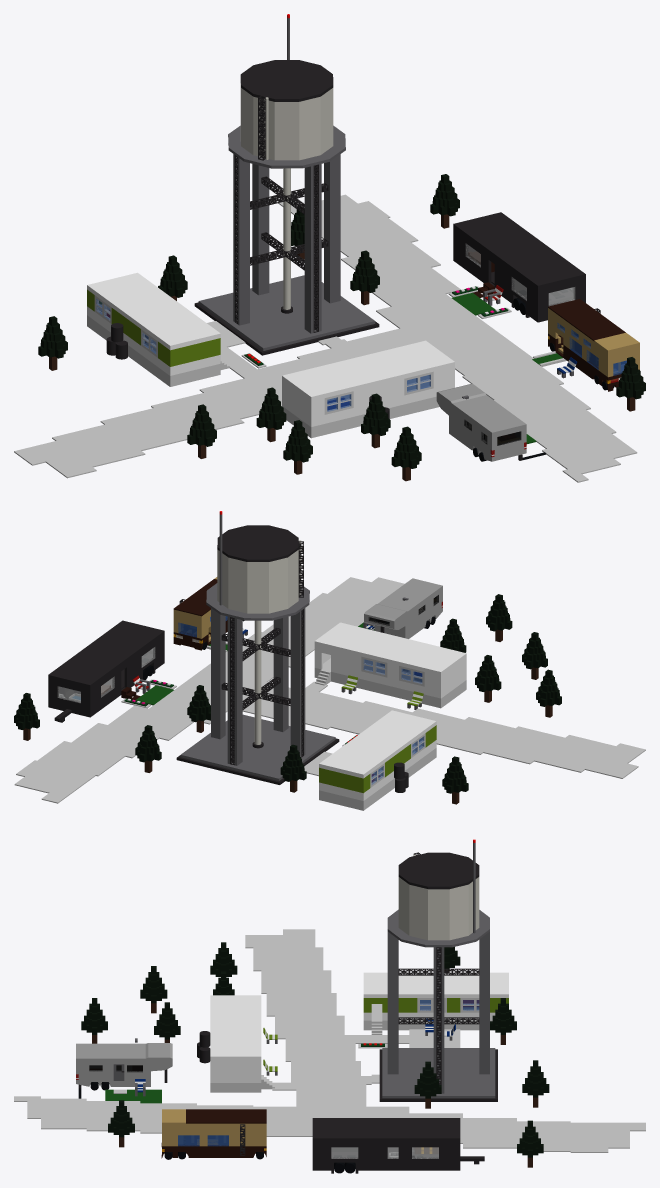
File: map_8.obj
3 renders of one model, top to bottom at view 1: azimuth 30°, elevation 25°; view 2: azimuth 150°, elevation 25°; view 3: azimuth 270°, elevation 25°, orthographic. The views are drawn at different scales.
Visible parts, largest first — view 1: Part454, Part3, Part4, Part457, Part452, Part404, Part456, Part467, Roof13, Part155, Part295, Part296 (+39 smaller); view 2: Part4, Part3, Part26, Part295, Part456, Roof13, SmoothBlockModel266, Part406, Part404, Part455, Part158, Part112 (+43 smaller); view 3: Part3, Part113, Part406, Part26, Part4, Part405, Part458, Part455, Roof13, Part296, Part169, Part112 (+45 smaller).
Part boxes in pixels (x1=…): Part454: x1=462, y1=359, x2=563, y2=399; Part3: x1=52, y1=424, x2=145, y2=467; Part4: x1=100, y1=408, x2=189, y2=450; Part457: x1=376, y1=293, x2=475, y2=332; Part452: x1=494, y1=384, x2=590, y2=423; Part404: x1=526, y1=409, x2=616, y2=448; Part456: x1=372, y1=267, x2=460, y2=306; Part467: x1=407, y1=316, x2=506, y2=353; Roof13: x1=476, y1=229, x2=562, y2=271; Part155: x1=231, y1=312, x2=319, y2=350; Part295: x1=321, y1=217, x2=418, y2=256; Part296: x1=542, y1=433, x2=637, y2=469; Part4: x1=483, y1=726, x2=564, y2=764; Part3: x1=534, y1=735, x2=615, y2=772; Part26: x1=436, y1=717, x2=515, y2=754; Part295: x1=37, y1=741, x2=125, y2=776; Part456: x1=108, y1=705, x2=193, y2=740; Roof13: x1=69, y1=635, x2=144, y2=672; SmoothBlockModel266: x1=314, y1=658, x2=466, y2=708; Part406: x1=71, y1=723, x2=159, y2=758; Part404: x1=305, y1=593, x2=373, y2=626; Part455: x1=288, y1=691, x2=362, y2=729; Part158: x1=229, y1=747, x2=307, y2=780; Part112: x1=16, y1=760, x2=95, y2=789; Part3: x1=253, y1=947, x2=323, y2=971; Part113: x1=275, y1=1015, x2=344, y2=1039; Part406: x1=463, y1=1118, x2=516, y2=1148; Part26: x1=266, y1=993, x2=336, y2=1016; Part4: x1=261, y1=970, x2=331, y2=993; Part405: x1=285, y1=1038, x2=355, y2=1061; Part458: x1=296, y1=1084, x2=366, y2=1106; Part455: x1=291, y1=1061, x2=360, y2=1083; Roof13: x1=353, y1=1118, x2=419, y2=1141; Part296: x1=41, y1=1098, x2=86, y2=1129; Part169: x1=439, y1=1072, x2=495, y2=1098; Part112: x1=570, y1=1122, x2=608, y2=1152.
Size of the model in its own units: 214 by 101 by 235.
